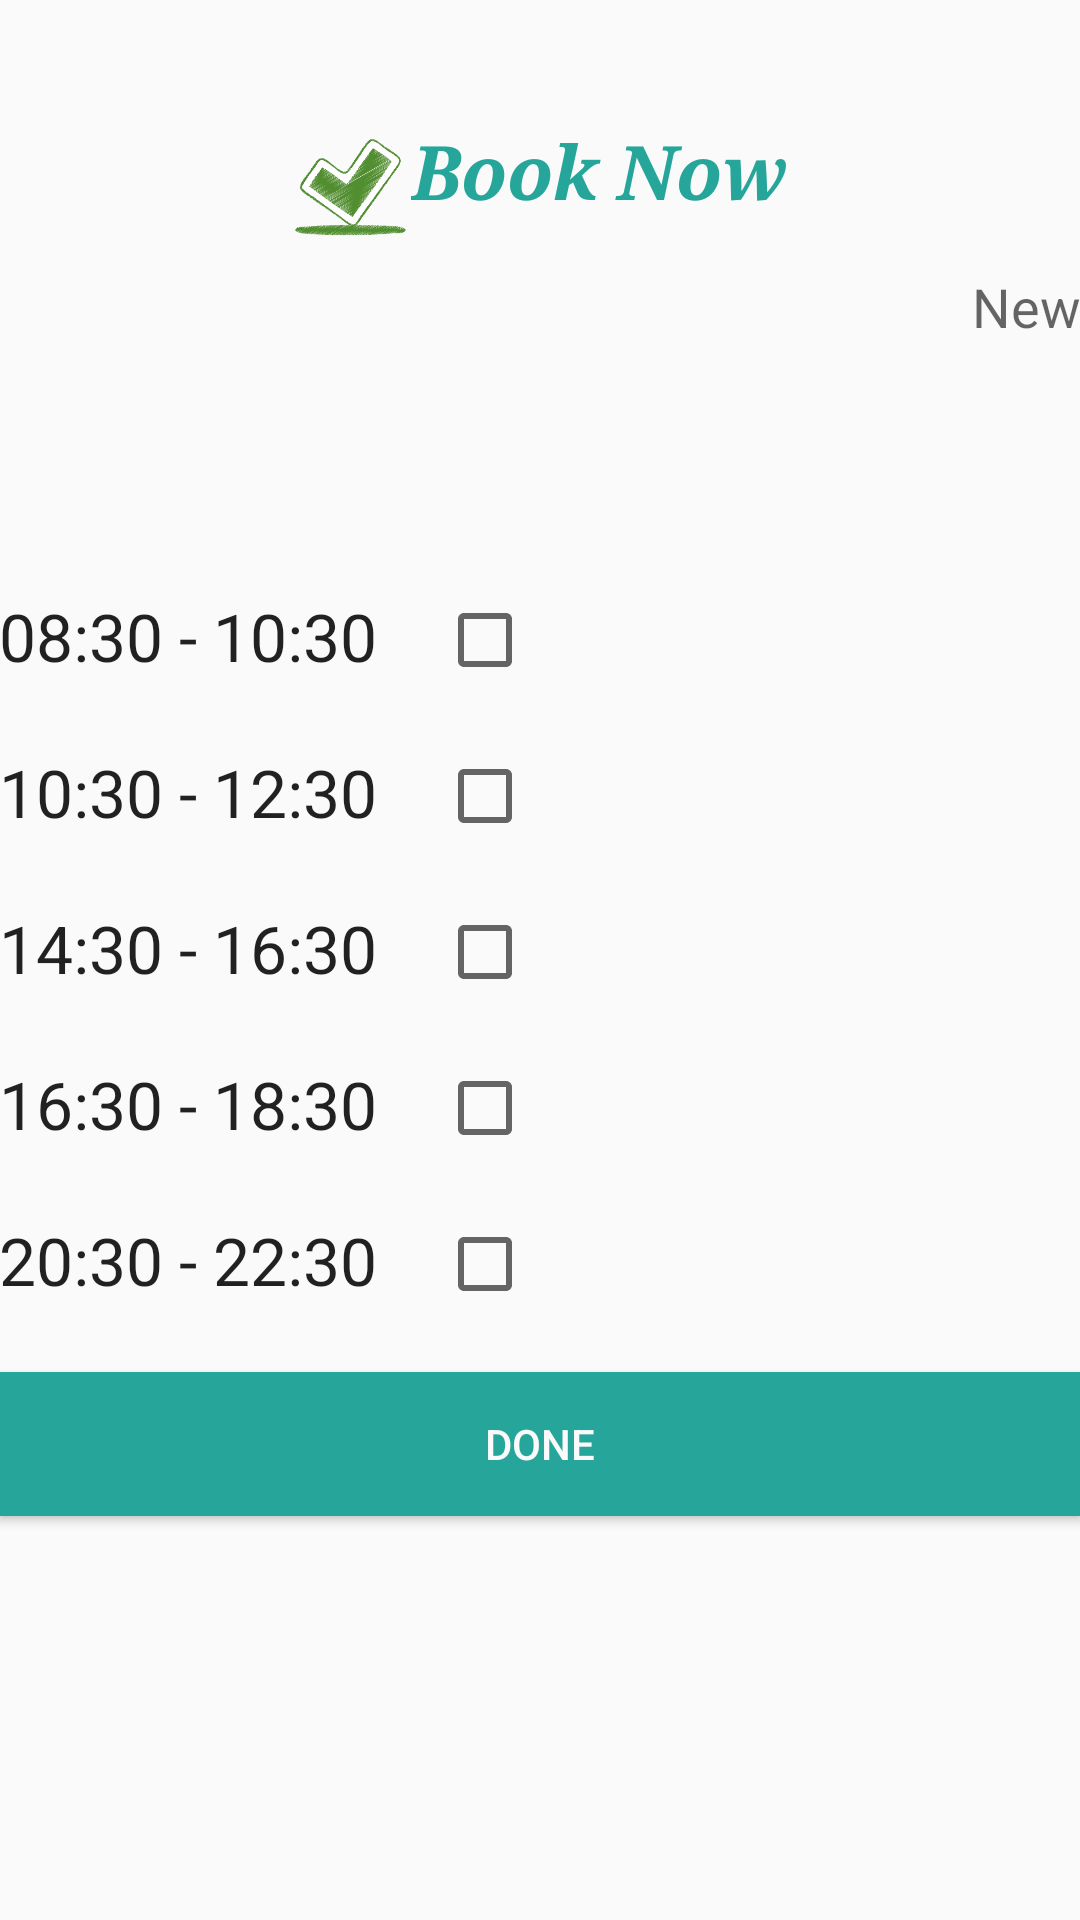

Icon click points for this 1080x1920 phone screenshot, format [x,y]:
check: [350,187]
